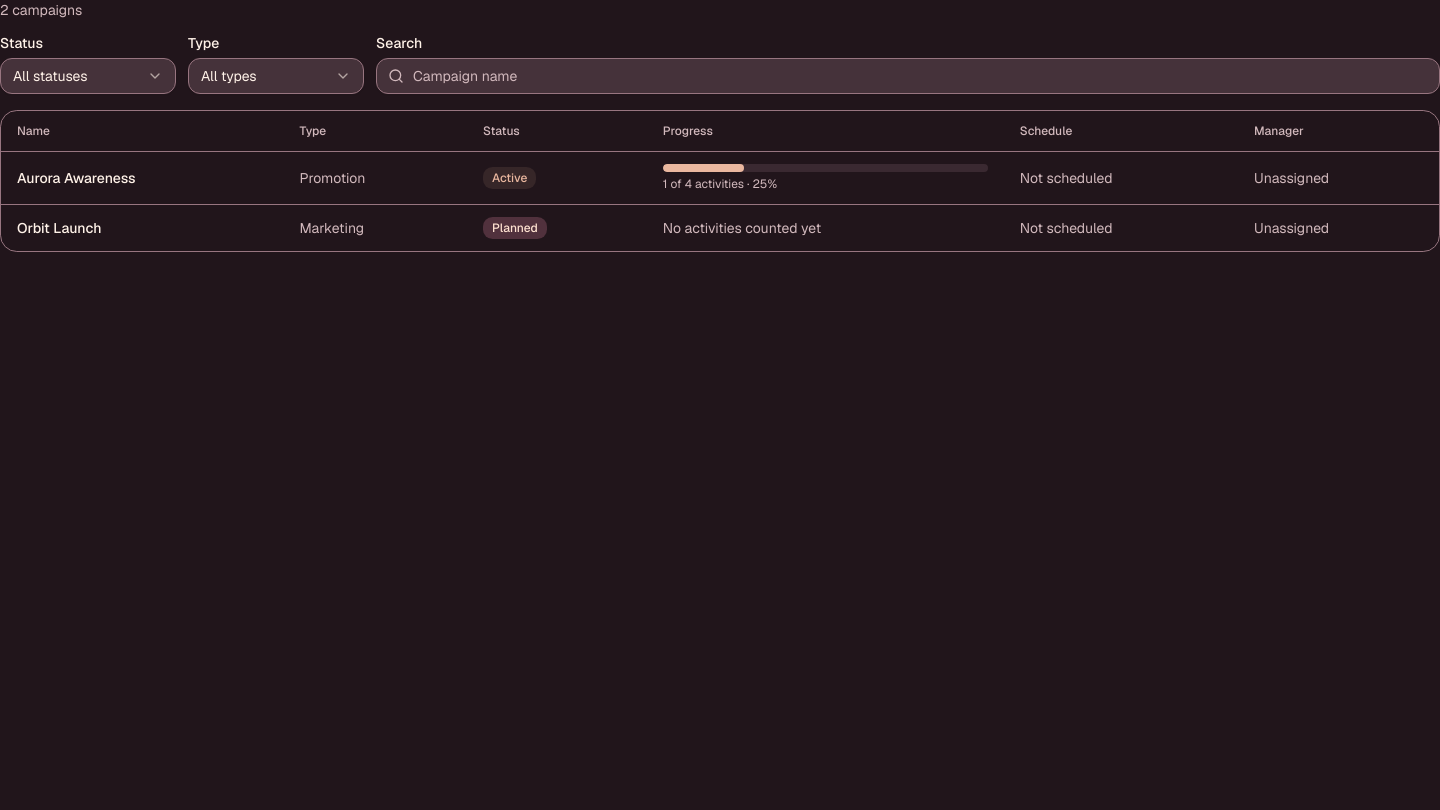
Test: CampaignsManager API integration › detail › shows read-only details, lifecycle, and activities without write grants
Click the button "Aurora Awareness". click: (76,178)
box: [17,168,136,188]
(page scrolled)
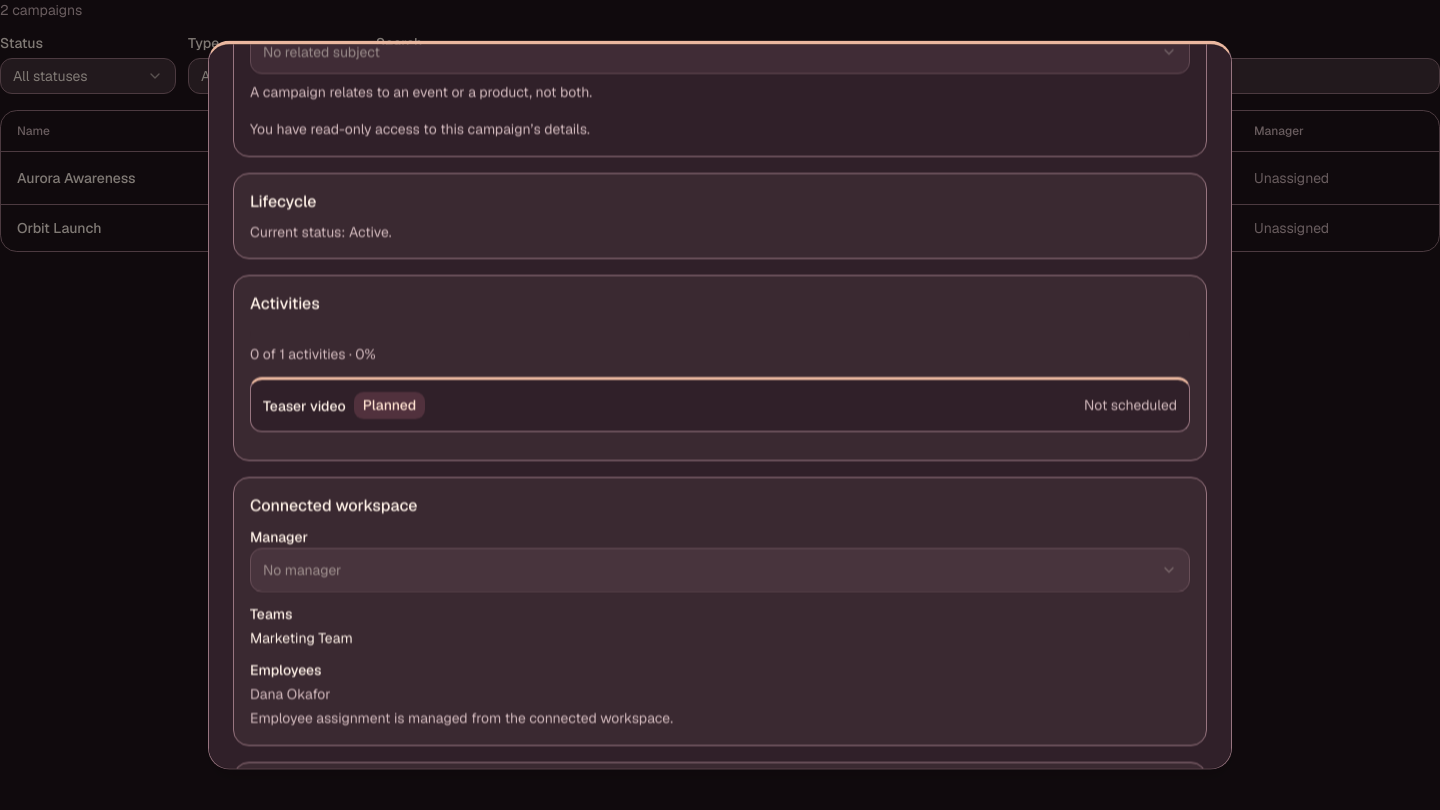
Result: the text "You have read-only access to this campaign’s details." is shown at [250,121,590,139]
Result: the text "Current status: Active." is shown at [250,224,392,242]
Result: the text "Teaser video" is shown at [263,396,346,416]
